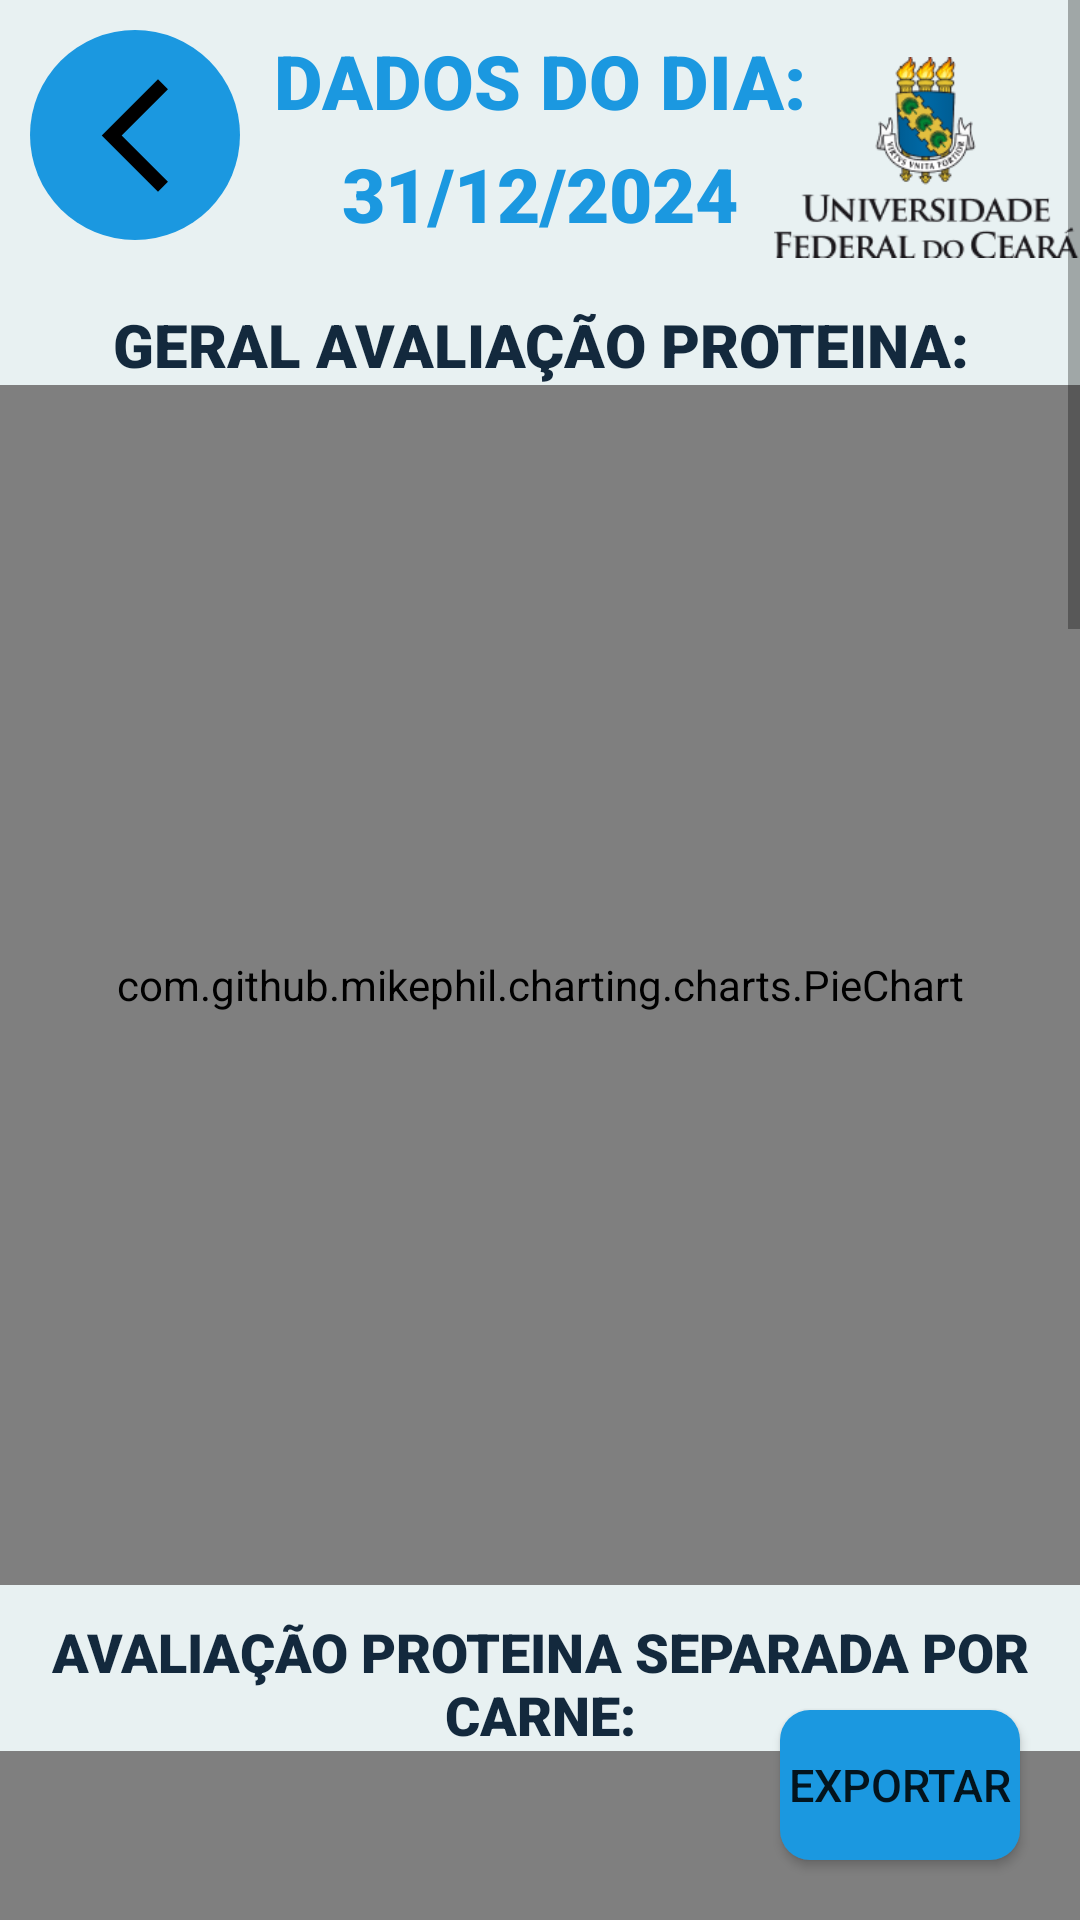

Named icons in this screenshot (1080×1920) and their centers, point (x, y):
arrow back: point (135, 135)
